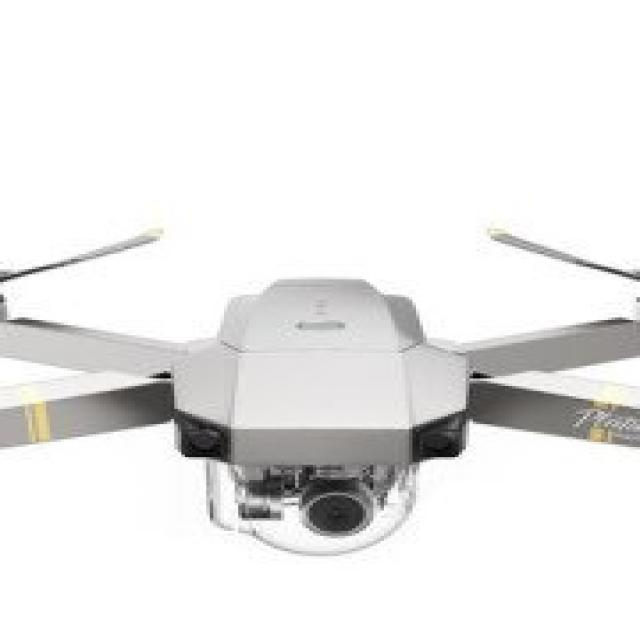drone: (0, 238, 640, 614)
